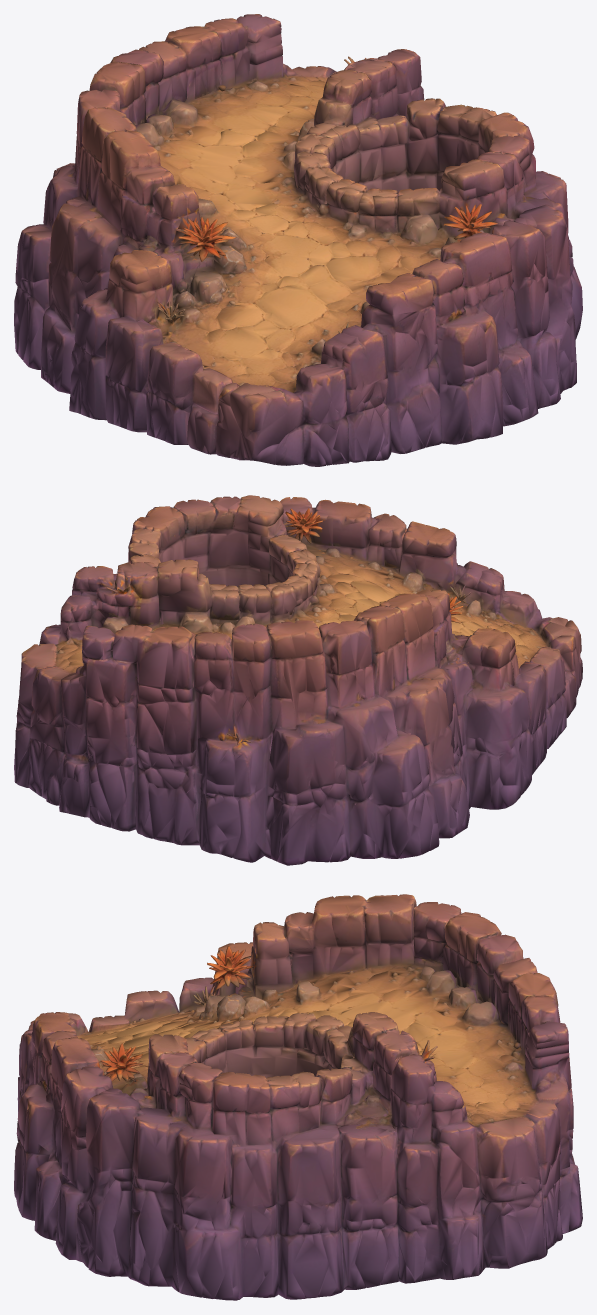
The model's file is bifurcacion_2_alicanto.glb.
3 views of the same model, one above another, from view 1: azimuth 30°, elevation 25°; view 2: azimuth 150°, elevation 25°; view 3: azimuth 270°, elevation 25° (orthographic). The views are drawn at different scales.
Visible parts, largest first — view 1: bifurcacion_2_alicanto; view 2: bifurcacion_2_alicanto; view 3: bifurcacion_2_alicanto.
Part boxes in pixels (left/top/right/bottom): bifurcacion_2_alicanto: left=14, top=14, right=582, bottom=466; bifurcacion_2_alicanto: left=14, top=495, right=582, bottom=865; bifurcacion_2_alicanto: left=14, top=894, right=582, bottom=1300.
Size of what is drawn, in the model's own units: 14.73 by 7.25 by 16.
Materials: 1 (1 with a texture image).
